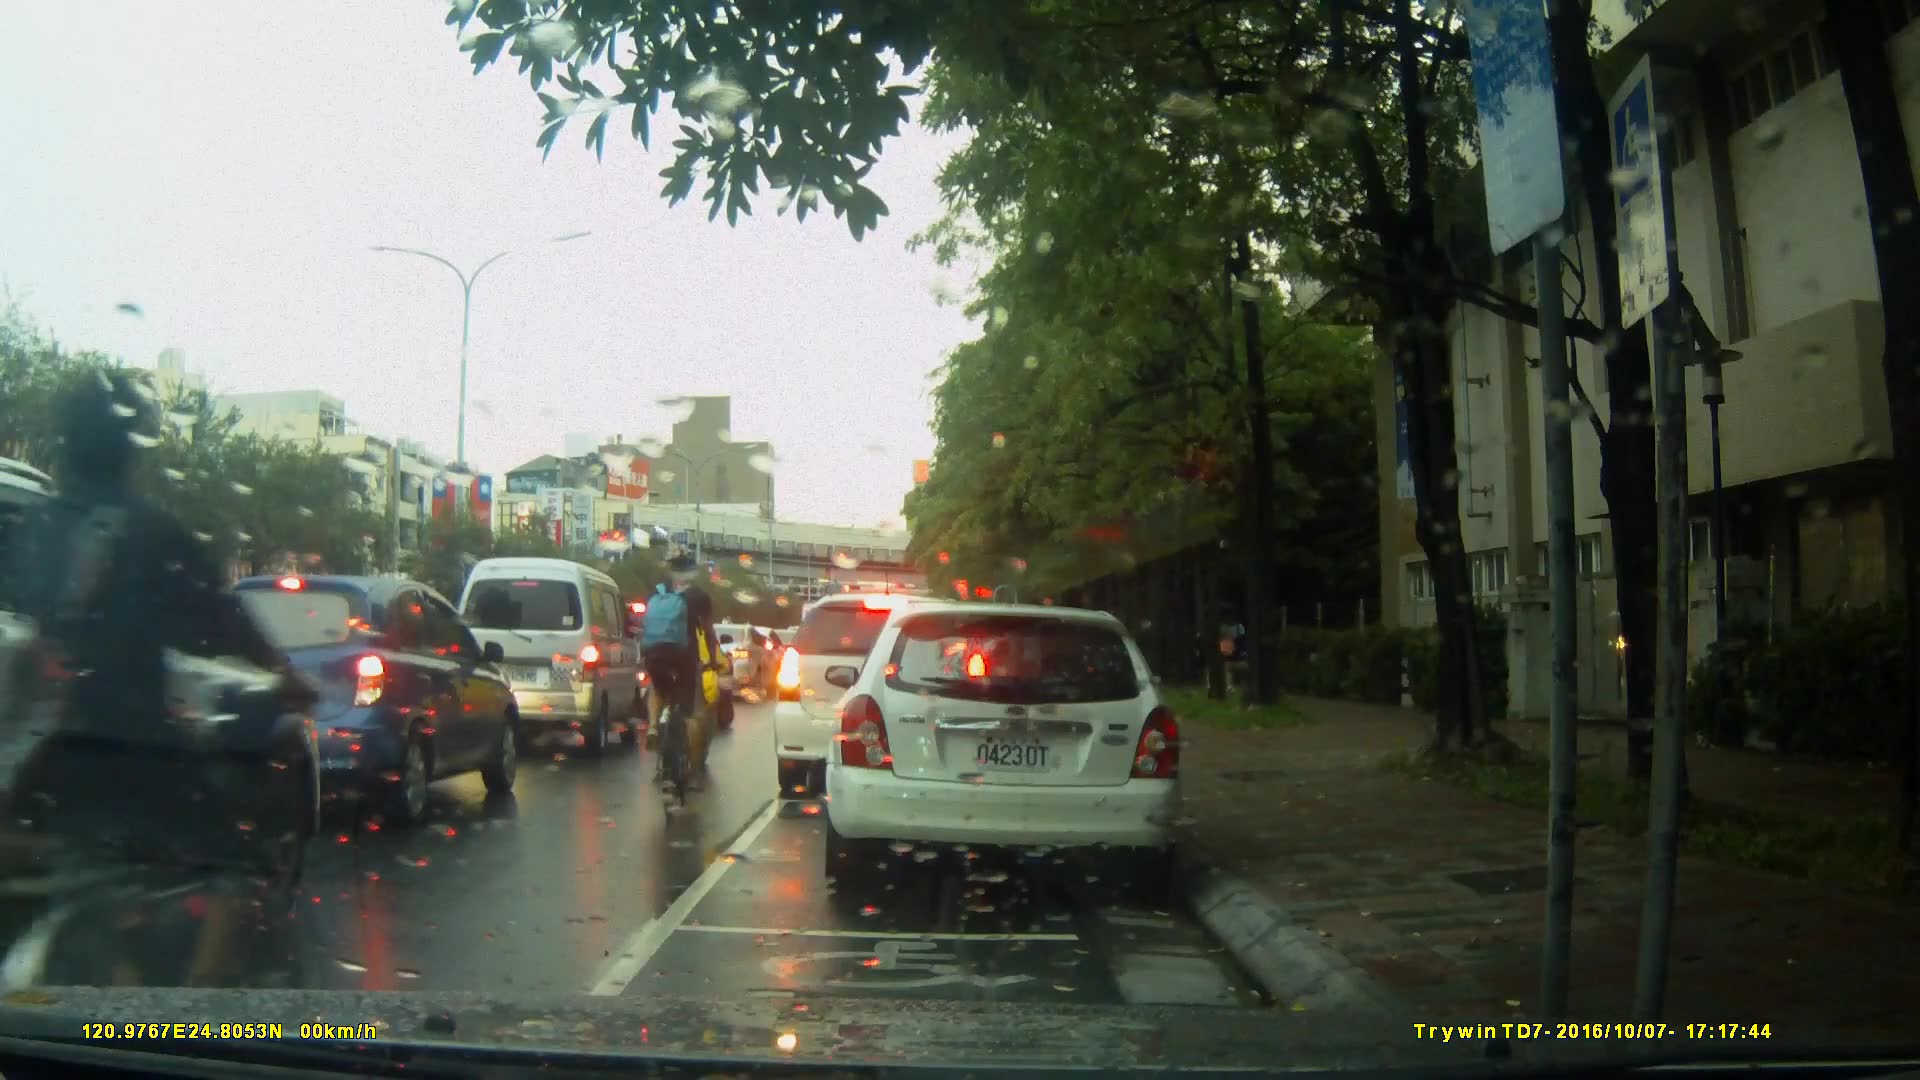rider: (1, 374, 325, 1057), (652, 550, 719, 825), (644, 594, 721, 774)
vehicle: (1, 444, 327, 987), (815, 593, 1204, 909), (178, 573, 529, 831), (770, 591, 993, 801), (445, 557, 649, 764), (599, 599, 741, 718)
